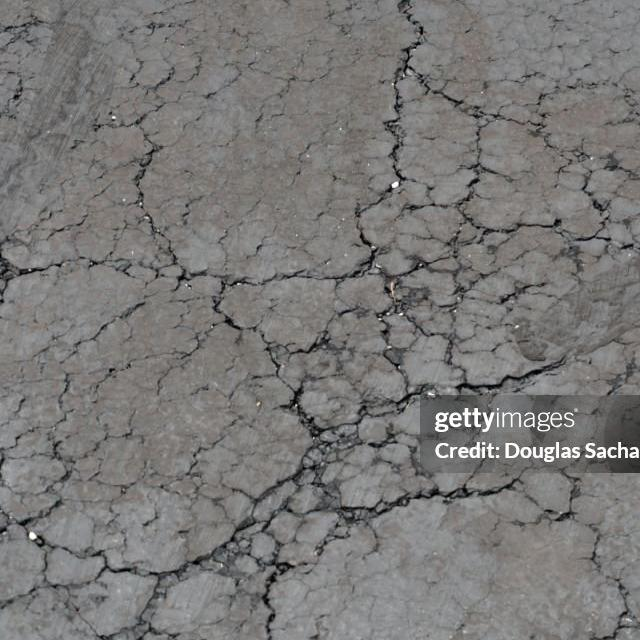retak_kulit_buaya: (0, 0, 378, 640)
